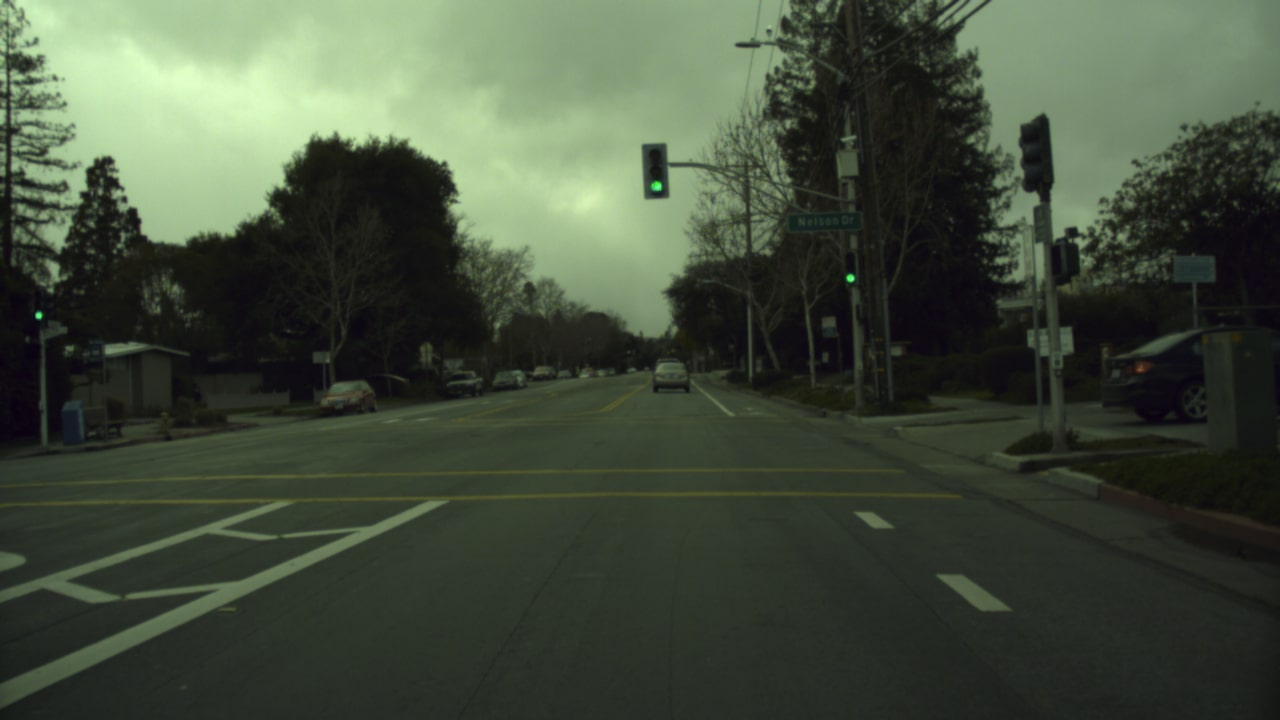signal: (642, 143, 670, 197), (28, 291, 47, 327), (839, 266, 860, 288)
